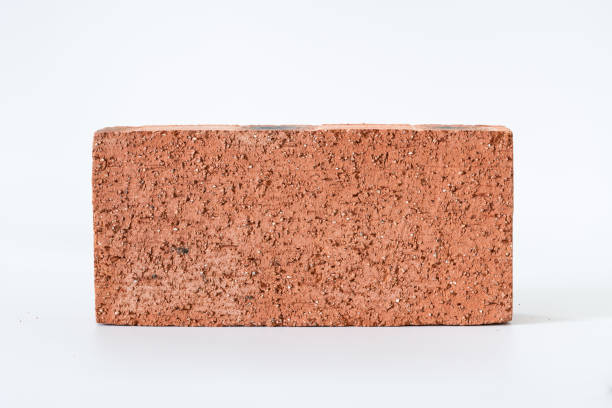brick: (95, 130, 513, 325)
